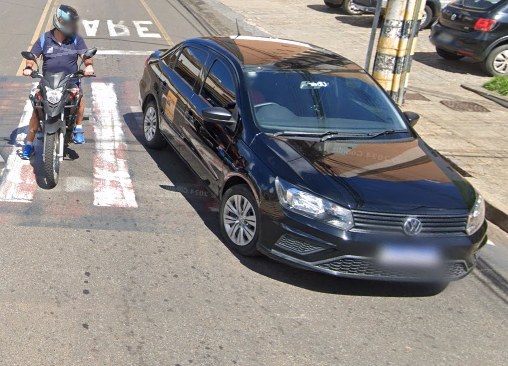car: (135, 15, 491, 291)
